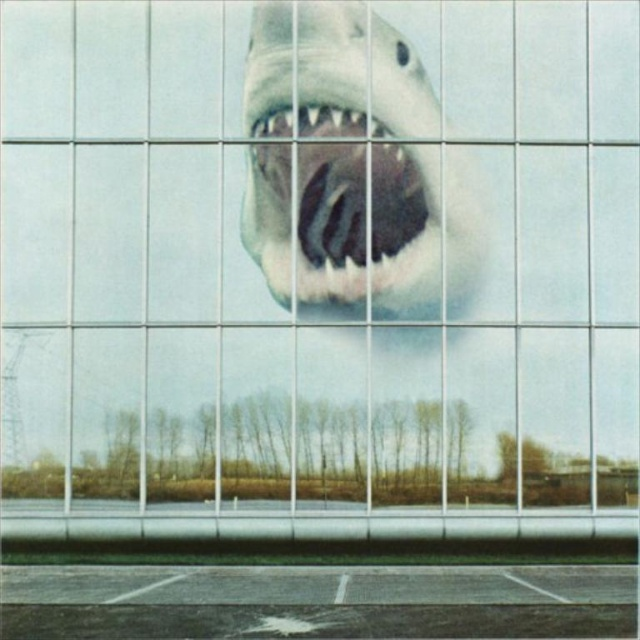Shark: (228, 0, 467, 310)
